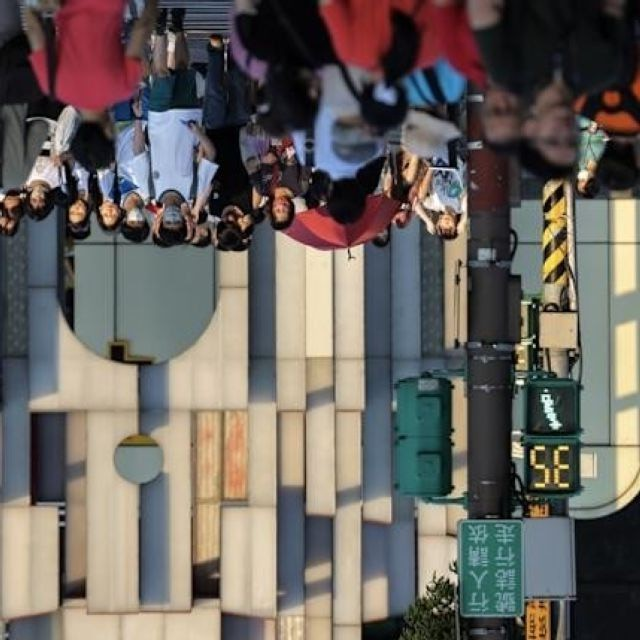green_light: (521, 380, 581, 497)
